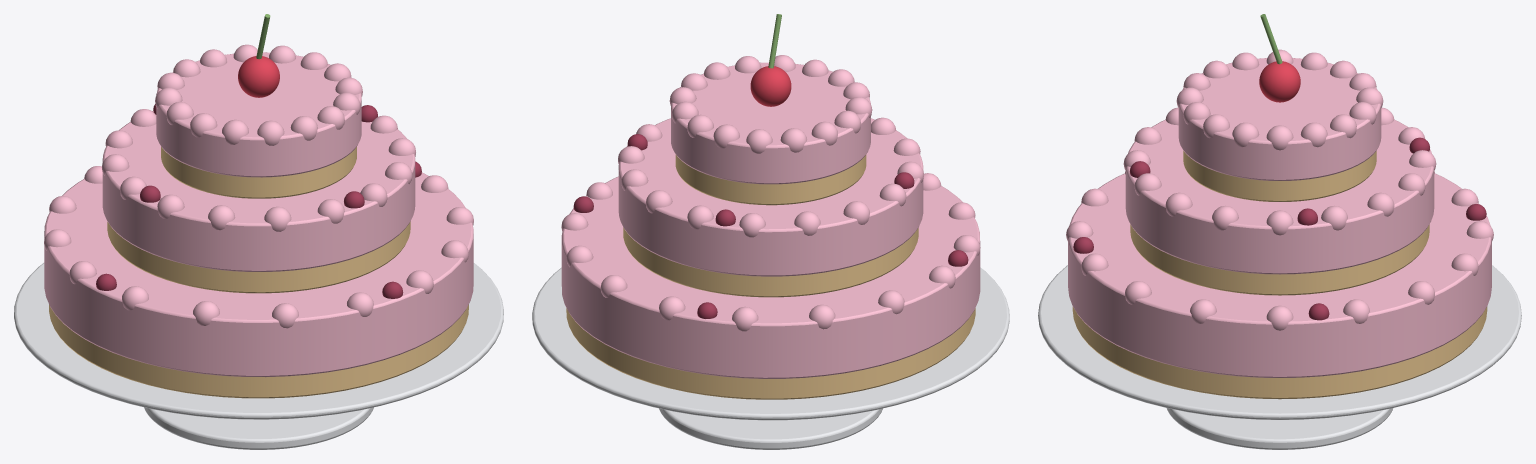
Rendered from cake.glb.
3 views of the same model, side by side, from view 1: azimuth 30°, elevation 25°; view 2: azimuth 150°, elevation 25°; view 3: azimuth 270°, elevation 25° (orthographic). The views are drawn at different scales.
Visible parts, largest first — view 1: tier1, tier2, stand, tier3, cream3, cream2, cream1, topper, berries; view 2: tier1, tier2, stand, tier3, cream3, cream1, cream2, berries, topper; view 3: tier1, tier2, stand, tier3, cream3, cream2, cream1, berries, topper.
Part boxes in pixels (bbox=[...]): tier1: bbox=[44, 172, 473, 398]; tier2: bbox=[102, 111, 415, 293]; stand: bbox=[14, 263, 503, 449]; tier3: bbox=[156, 52, 361, 198]; cream3: bbox=[155, 44, 362, 145]; cream2: bbox=[102, 109, 415, 231]; cream1: bbox=[44, 166, 473, 328]; topper: bbox=[238, 14, 279, 97]; berries: bbox=[96, 104, 421, 298]; tier1: bbox=[561, 176, 980, 399]; tier2: bbox=[618, 118, 923, 297]; stand: bbox=[532, 267, 1009, 449]; tier3: bbox=[671, 62, 870, 205]; cream3: bbox=[669, 55, 872, 153]; cream1: bbox=[561, 173, 980, 331]; cream2: bbox=[618, 117, 923, 237]; berries: bbox=[573, 134, 968, 318]; topper: bbox=[750, 14, 791, 106]; tier1: bbox=[1068, 173, 1491, 399]; tier2: bbox=[1125, 119, 1434, 295]; stand: bbox=[1038, 265, 1521, 449]; tier3: bbox=[1178, 58, 1381, 201]; cream3: bbox=[1176, 49, 1383, 150]; cream2: bbox=[1123, 107, 1436, 235]; cream1: bbox=[1066, 171, 1493, 330]; berries: bbox=[1073, 137, 1486, 320]; topper: bbox=[1259, 14, 1300, 102].
Bounding box in the file's own units: 2.1 × 1.86 × 2.1.
